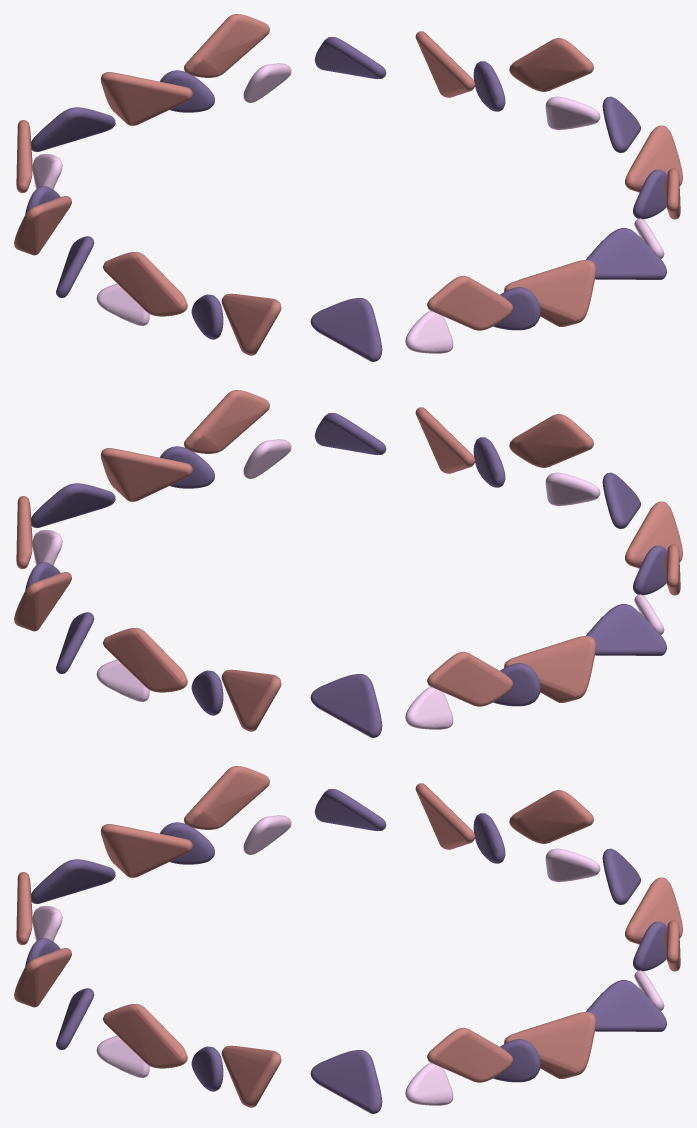
File: ring8.fbx
The picture shows the model from 3 angles, top to bottom: view 1: azimuth 30°, elevation 25°; view 2: azimuth 150°, elevation 25°; view 3: azimuth 270°, elevation 25°; orthographic projection.
Parts seen in each view (by area): view 1: ring8; view 2: ring8; view 3: ring8.
Part boxes in pixels (left/top/right/bottom): ring8: left=14, top=14, right=682, bottom=361; ring8: left=14, top=390, right=682, bottom=737; ring8: left=14, top=766, right=682, bottom=1113.
Size of the model in its own units: 79.59 by 10.2 by 75.77.
